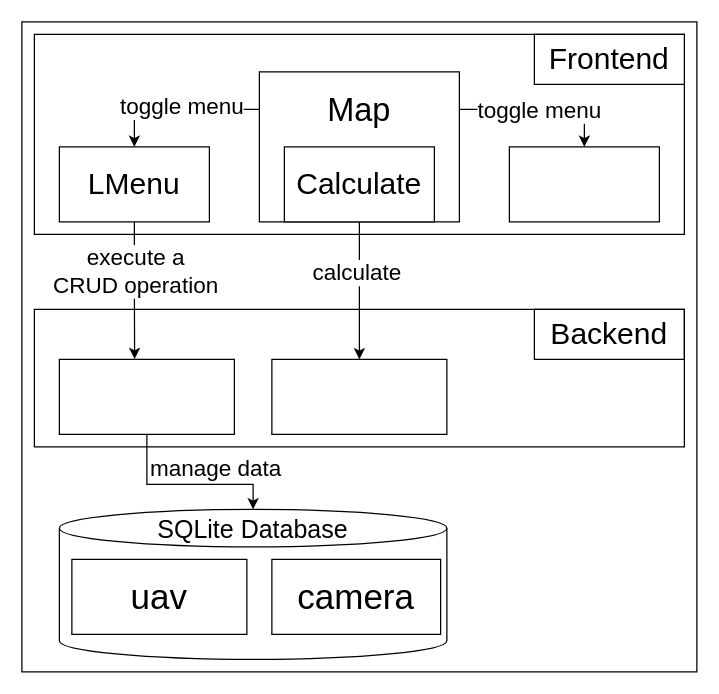
Some shapes in this 719 by 694 pixel diagram are drawn without their labels. The shapes that lost their labels are listed below. From the top down, each one's centre as x and y in pixels, then its label:
At (x=583, y=184): "RMenu".
At (x=146, y=396): "Data Managment".
At (x=359, y=396): "Algorithms".
